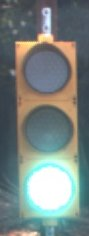Green: (3, 21, 88, 224)
